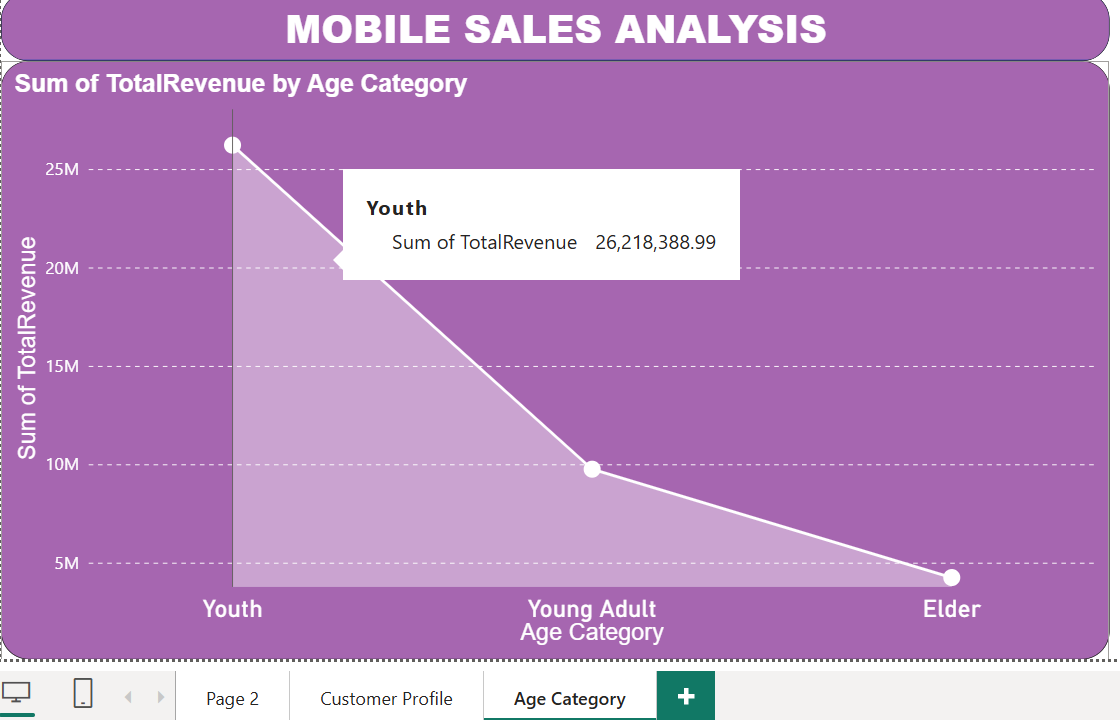

This screenshot's page, from the dashboard's own definition file:
{"tool":"powerbi","page":{"name":"Age Category","canvas":[1280,720],"ordinal":2},"visuals":[{"type":"lineChart","fields":{"Category":["mobile_sales.Age Category"],"Y":["Sum(mobile_sales.TotalRevenue)"]},"box":[0,74.9,1197,646.1],"z":0},{"type":"textbox","title":"MOBILE SALES ANALYSIS","box":[0,0,1197,74.9],"z":1}]}

Visuals, with their boxes on the page's 1280x720 design canvas (x1, y1, x2, y2). These are canvas units, not pixel positions in the 1120x720 screenshot, which may show the page scaled, cropped or inside an application window:
lineChart - mobile_sales.Age Category x Sum(mobile_sales.TotalRevenue): locate(0, 75, 1197, 721)
"MOBILE SALES ANALYSIS" textbox: locate(0, 0, 1197, 75)
